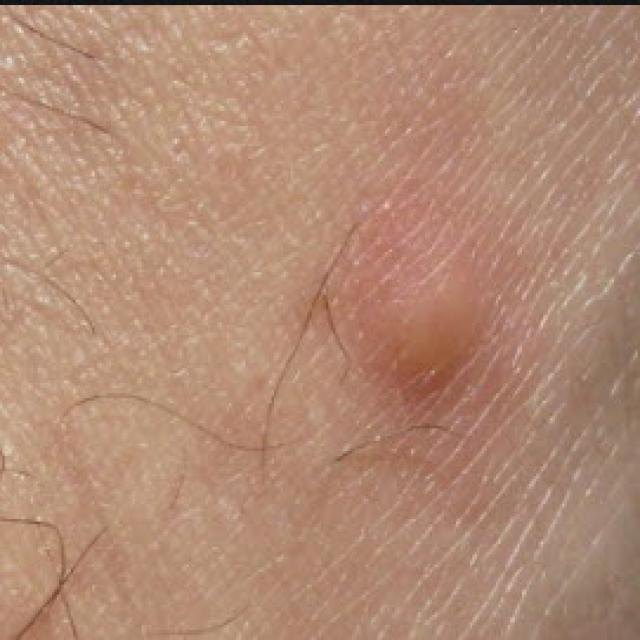sinek: (326, 212, 526, 441)
